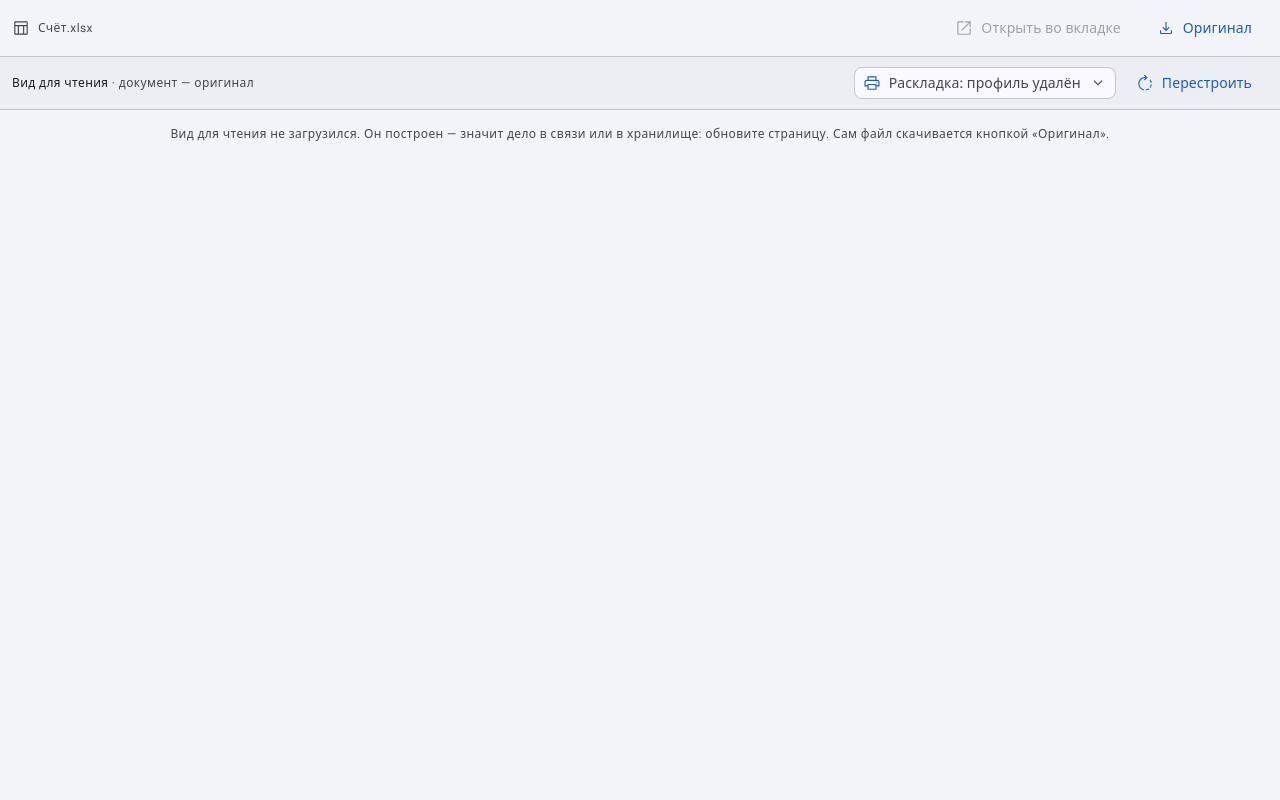
Scenario: вид для чтения: профиль печати › состояние «deleted» — в подписи чипа и в окне
The image size is (1280, 800).
Click the button with test id "layout-chip" at {"x": 985, "y": 83}, box left=854, top=67, right=1116, bottom=99
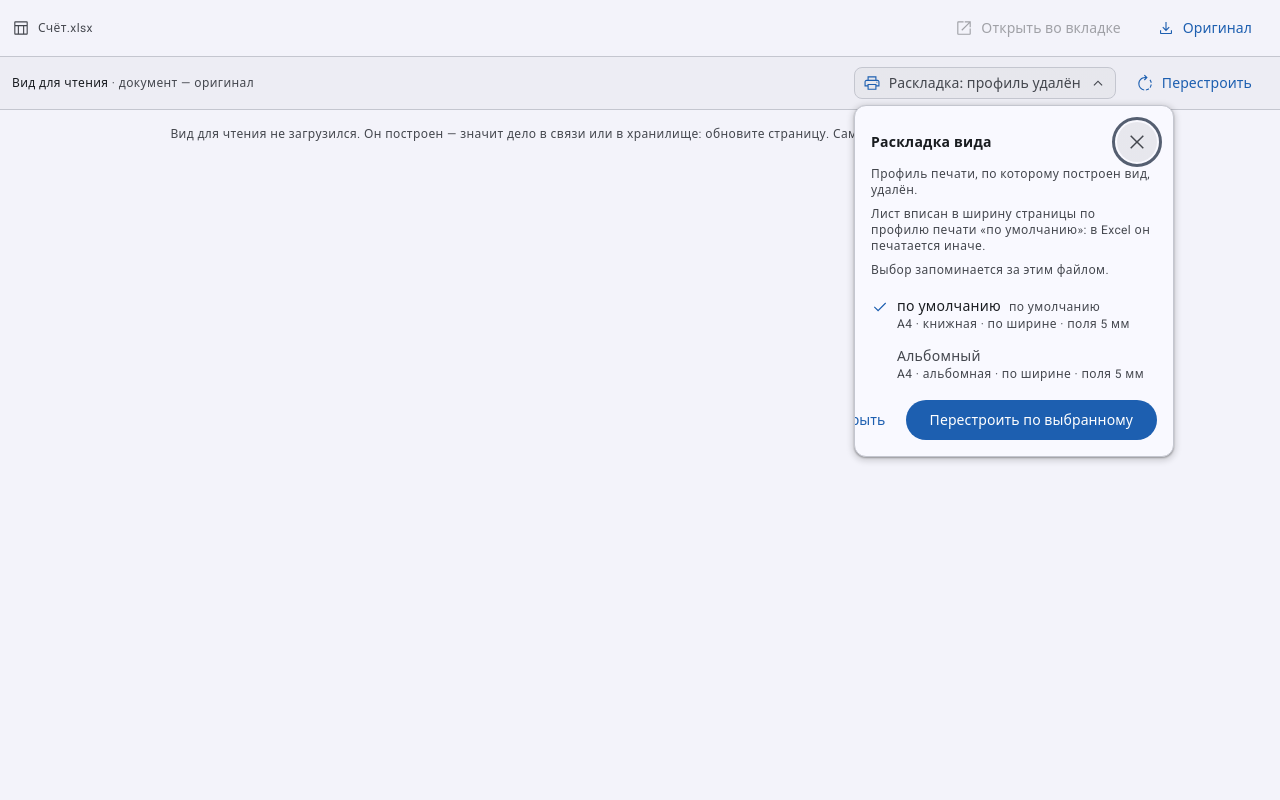
Expected: the element with test id "layout-notice" does not show "Перестроить"
Expected: the text with test id "layout-notice" shows "по которому построен вид, удалён", left=871, top=167, right=1150, bottom=197
